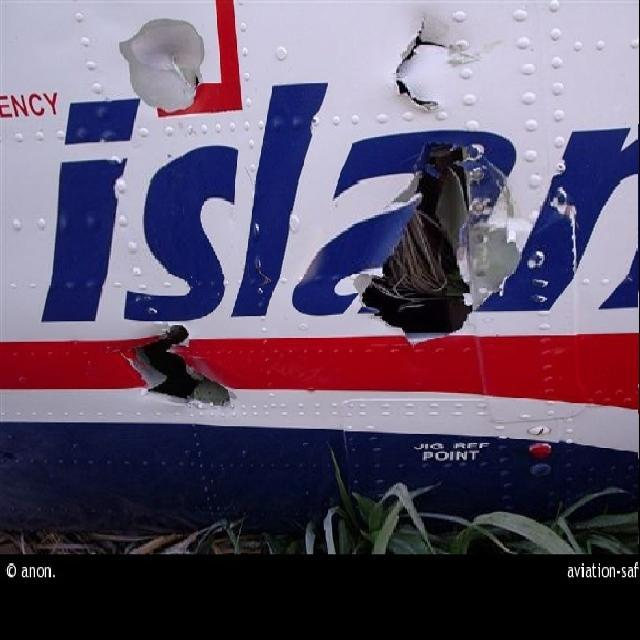crack: (356, 142, 478, 342), (117, 319, 241, 412), (390, 10, 461, 118), (169, 50, 211, 101)
